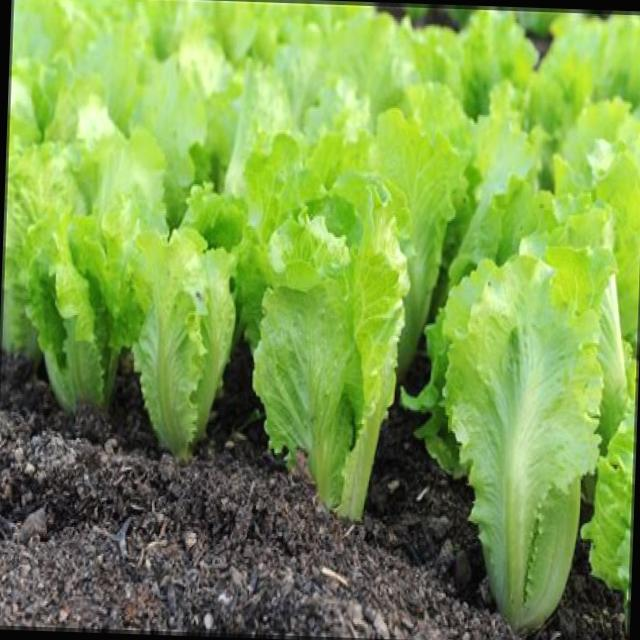Lettuce-Ready-to-Harvest: (438, 254, 598, 568), (246, 172, 397, 472), (15, 188, 142, 386), (120, 216, 229, 422)
